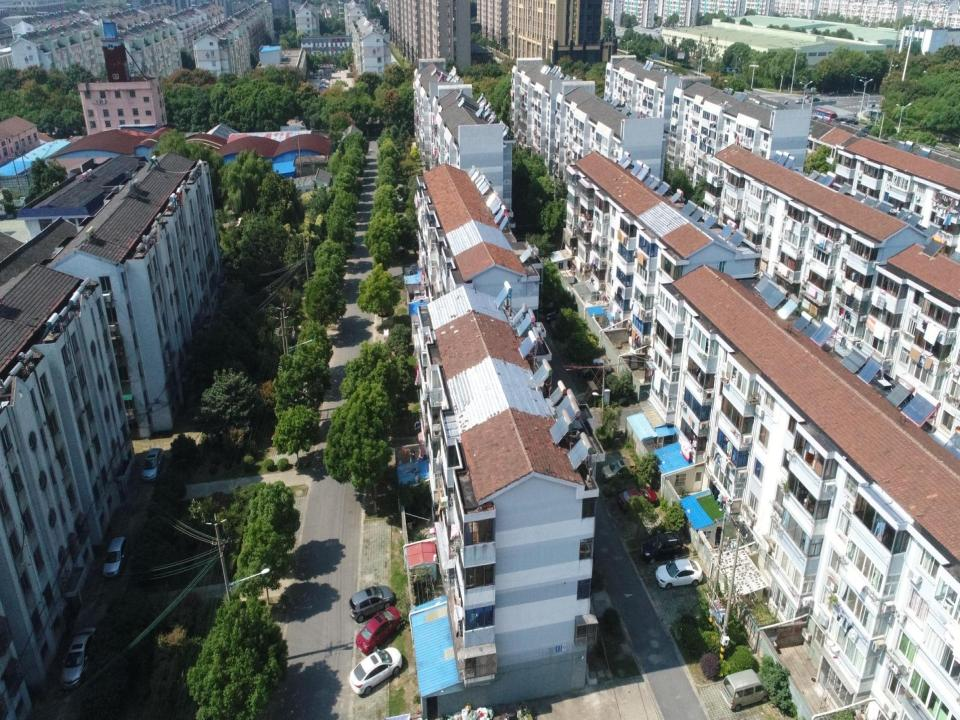bus: (811, 107, 838, 125)
car: (348, 644, 402, 697), (60, 626, 98, 688), (354, 606, 401, 654), (346, 584, 398, 622), (655, 558, 703, 592), (640, 528, 681, 564), (102, 532, 127, 577), (600, 456, 638, 484), (615, 484, 658, 508), (141, 446, 165, 481), (845, 117, 859, 125), (860, 127, 872, 136), (835, 116, 849, 123), (866, 124, 878, 131), (808, 98, 820, 104), (795, 98, 805, 104)
van: (720, 668, 778, 712)
